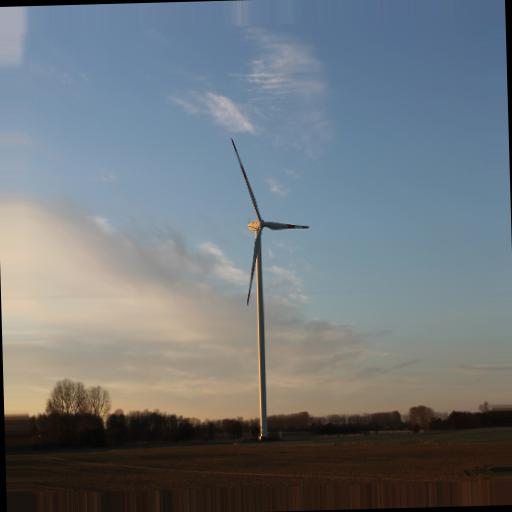wind turbine: (228, 136, 310, 434)
